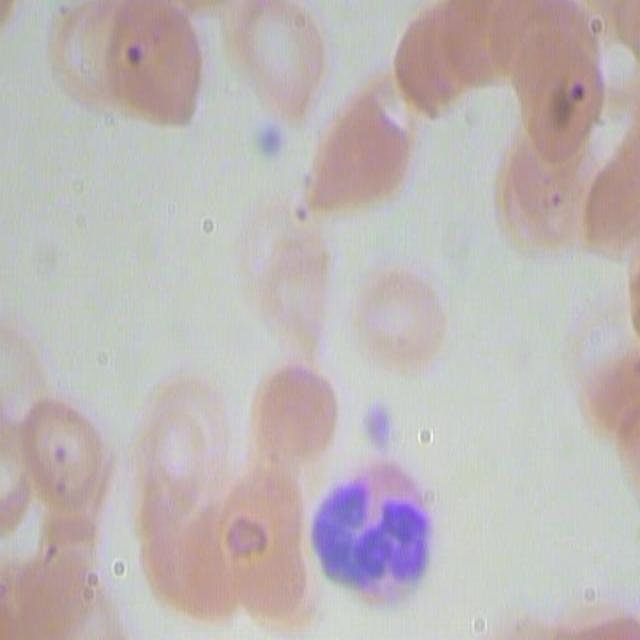RBC: (149, 498, 305, 616), (307, 75, 418, 216), (101, 0, 205, 127), (388, 0, 496, 121), (225, 0, 334, 115), (129, 376, 236, 486), (16, 394, 113, 513), (355, 272, 449, 379), (4, 547, 110, 640), (503, 135, 590, 243), (259, 368, 343, 468), (581, 2, 640, 114)
WBC: (314, 462, 438, 596)
platelets: (359, 396, 403, 461), (252, 115, 290, 173)
